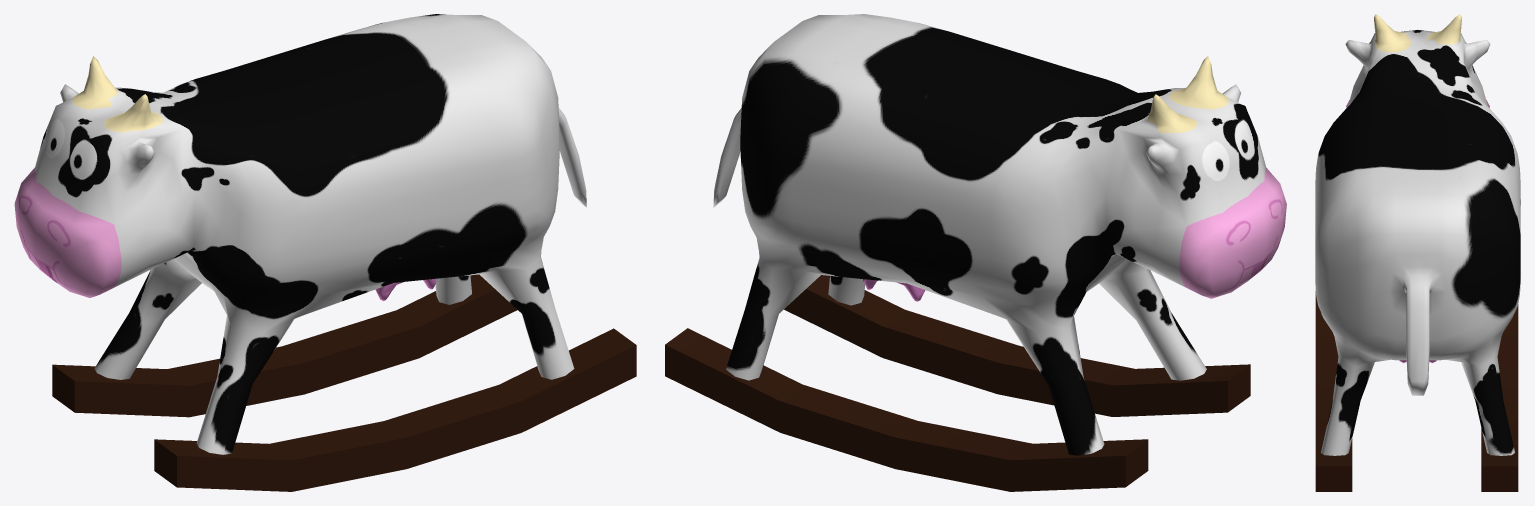
File: vacaT.FBX
3 views of the same model, side by side, from view 1: azimuth 30°, elevation 25°; view 2: azimuth 150°, elevation 25°; view 3: azimuth 270°, elevation 25° (orthographic). The views are drawn at different scales.
Visible parts, largest first — view 1: Box002, Box003; view 2: Box002, Box003; view 3: Box002, Box003.
Part boxes in pixels (x1,y1,x2,y2): Box002: (14, 14, 586, 454); Box003: (52, 274, 636, 491); Box002: (713, 14, 1286, 455); Box003: (665, 275, 1250, 491); Box002: (1315, 14, 1520, 455); Box003: (1315, 291, 1518, 491).
Bounding box in the file's own units: 5.49 × 3.86 × 2.19.
Materials: 2 (1 with a texture image).
